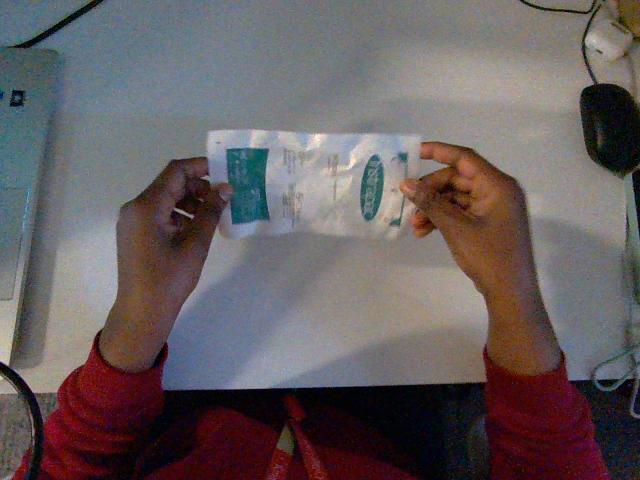gallipot: (207, 130, 419, 238)
